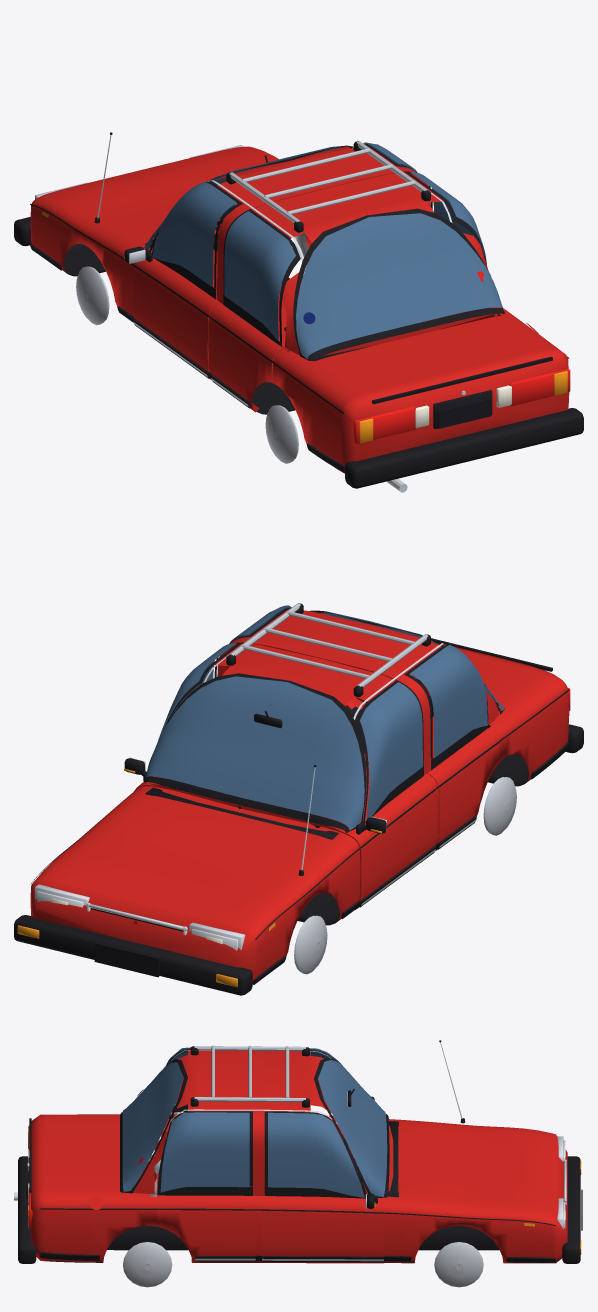
File: veh_saga.fbx
The picture shows the model from 3 angles, top to bottom: view 1: azimuth 30°, elevation 25°; view 2: azimuth 150°, elevation 25°; view 3: azimuth 270°, elevation 25°; orthographic projection. The views are drawn at different scales.
Visible parts, largest first — view 1: Body, Glass, Detail, Door_FL, Door_RL, Door_RL_Glass, Door_FL_Glass, Var_Rack_a_Roof, BrakeLights, Var_Hubcap_a_FL_LOD0, Var_Hubcap_a_RL_LOD0, Door_RR_Glass (+1 smaller); view 2: Body, Glass, Detail, Door_FL, Door_RL, Door_FL_Glass, Door_RL_Glass, Var_Rack_a_Roof, Var_Hubcap_a_RL_LOD0, Var_Hubcap_a_FL_LOD0, Door_FR_Glass, HeadLights; view 3: Body, Door_FR, Glass, Detail, Door_RR, Door_RR_Glass, Door_FR_Glass, Var_Rack_a_Roof, Var_Hubcap_a_FR_LOD0, Var_Hubcap_a_RR_LOD0.
Part boxes in pixels (box(x1,y1,x2,y2)): Body: box(30, 146, 569, 473); Glass: box(145, 146, 503, 358); Detail: box(14, 145, 583, 492); Door_FL: box(133, 181, 242, 379); Door_RL: box(211, 209, 300, 412); Door_RL_Glass: box(224, 211, 295, 341); Door_FL_Glass: box(152, 181, 236, 287); Var_Rack_a_Roof: box(226, 141, 430, 232); BrakeLights: box(353, 368, 570, 443); Var_Hubcap_a_FL_LOD0: box(76, 266, 106, 325); Var_Hubcap_a_RL_LOD0: box(265, 405, 296, 463); Door_RR_Glass: box(410, 171, 486, 264); Body: box(30, 609, 569, 982); Glass: box(145, 611, 504, 830); Detail: box(14, 610, 583, 995); Door_FL: box(310, 680, 436, 909); Door_RL: box(404, 644, 499, 850); Door_FL_Glass: box(360, 682, 422, 820); Door_RL_Glass: box(410, 644, 487, 758); Var_Rack_a_Roof: box(226, 603, 430, 697); Var_Hubcap_a_RL_LOD0: box(486, 777, 516, 835); Var_Hubcap_a_FL_LOD0: box(296, 915, 327, 974); Door_FR_Glass: box(157, 642, 236, 741); HeadLights: box(37, 891, 237, 950); Body: box(31, 1049, 567, 1263); Door_FR: box(261, 1111, 384, 1263); Glass: box(122, 1060, 387, 1196); Detail: box(14, 1050, 582, 1263); Door_RR: box(157, 1111, 255, 1262); Door_RR_Glass: box(160, 1112, 249, 1192); Door_FR_Glass: box(268, 1112, 364, 1197); Var_Rack_a_Roof: box(190, 1045, 309, 1107); Var_Hubcap_a_FR_LOD0: box(434, 1242, 483, 1287); Var_Hubcap_a_RR_LOD0: box(123, 1242, 172, 1287).
Size of what is drawn, in the model's own units: 1.89 by 1.55 by 4.36.
1 material, 1 textured.
